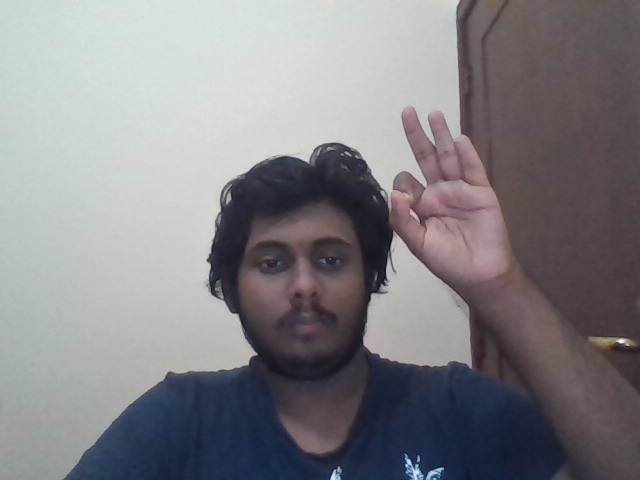ok: (390, 106, 513, 291)
